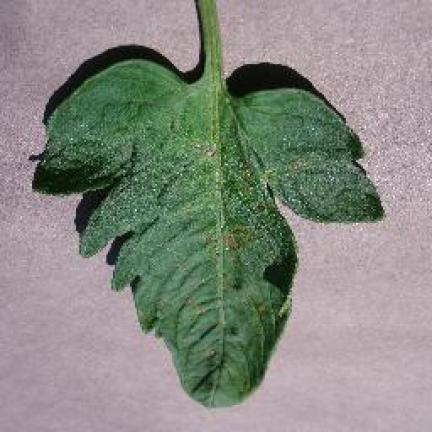disease: (265, 169, 275, 184)
leaf: (34, 0, 381, 405)
